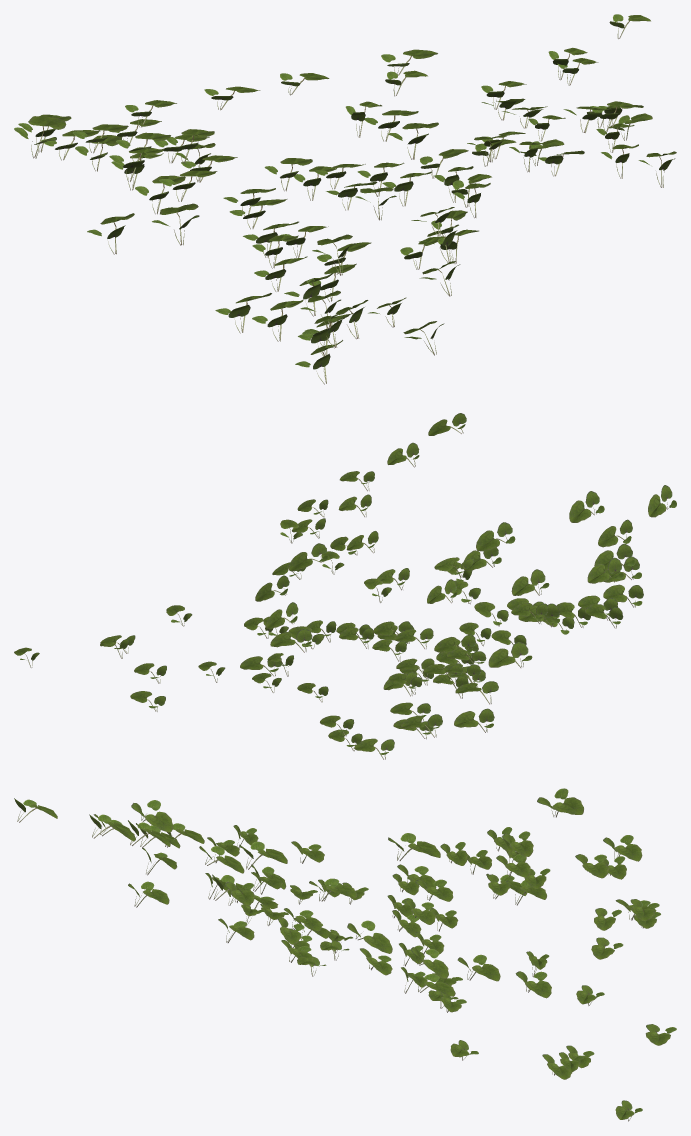
File: medium grass 2.fbx
The picture shows the model from 3 angles, top to bottom: view 1: azimuth 30°, elevation 25°; view 2: azimuth 150°, elevation 25°; view 3: azimuth 270°, elevation 25°; orthographic projection. The views are drawn at different scales.
Visible parts, largest first — view 1: 中草2; view 2: 中草2; view 3: 中草2.
Part boxes in pixels (x1,y1,x2,y2): 中草2: (14, 14, 676, 384); 中草2: (14, 413, 676, 759); 中草2: (14, 788, 676, 1121).
Size of the model in its own units: 275 by 94.99 by 290.
